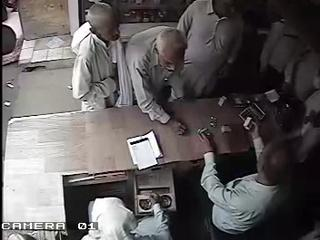Normal: (196, 114, 294, 240), (115, 25, 188, 133), (174, 0, 244, 100), (81, 191, 173, 240), (239, 102, 266, 123)
shoplifting: (70, 2, 121, 112)
